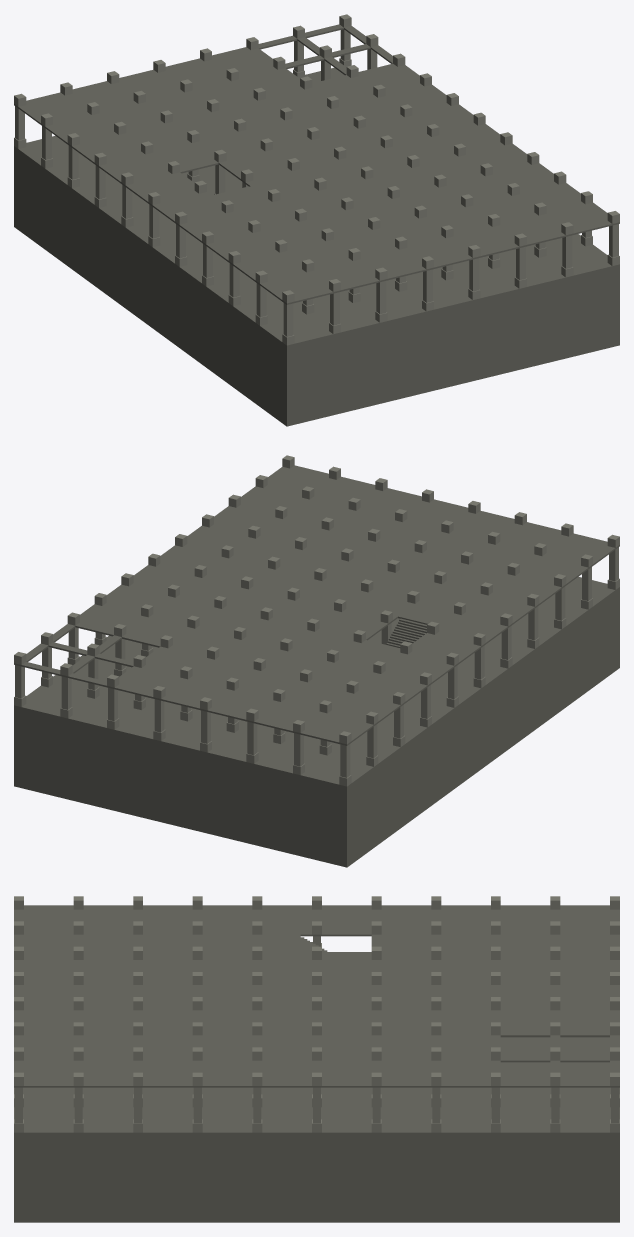
The model's file is Construction.fbx.
3 views of the same model, one above another, from view 1: azimuth 30°, elevation 25°; view 2: azimuth 150°, elevation 25°; view 3: azimuth 270°, elevation 25° (orthographic). The views are drawn at different scales.
Parts seen in each view (by area): view 1: Plane, Foundation, Pillar Base. Upper Floor, Pillars, Pillar Base; view 2: Plane, Foundation, Pillar Base. Upper Floor, Pillars, Pillar Base, Stairs; view 3: Plane, Foundation, Pillar Base. Upper Floor, Pillars, Pillar Base.
Part boxes in pixels (x1=…): Plane: x1=14, y1=24, x2=619, y2=304; Foundation: x1=14, y1=67, x2=619, y2=426; Pillar Base. Upper Floor: x1=14, y1=14, x2=619, y2=303; Pillars: x1=15, y1=29, x2=618, y2=336; Pillar Base: x1=14, y1=58, x2=619, y2=345; Plane: x1=14, y1=465, x2=619, y2=745; Foundation: x1=14, y1=576, x2=619, y2=867; Pillar Base. Upper Floor: x1=14, y1=455, x2=619, y2=744; Pillars: x1=15, y1=547, x2=618, y2=777; Pillar Base: x1=14, y1=578, x2=619, y2=786; Stairs: x1=386, y1=618, x2=426, y2=647; Plane: x1=14, y1=905, x2=619, y2=1087; Foundation: x1=14, y1=952, x2=619, y2=1222; Pillar Base. Upper Floor: x1=14, y1=896, x2=619, y2=1085; Pillars: x1=15, y1=936, x2=619, y2=1123; Pillar Base: x1=14, y1=943, x2=619, y2=1132.
Bounding box in the file's own units: 4300 × 1620 × 6100.
